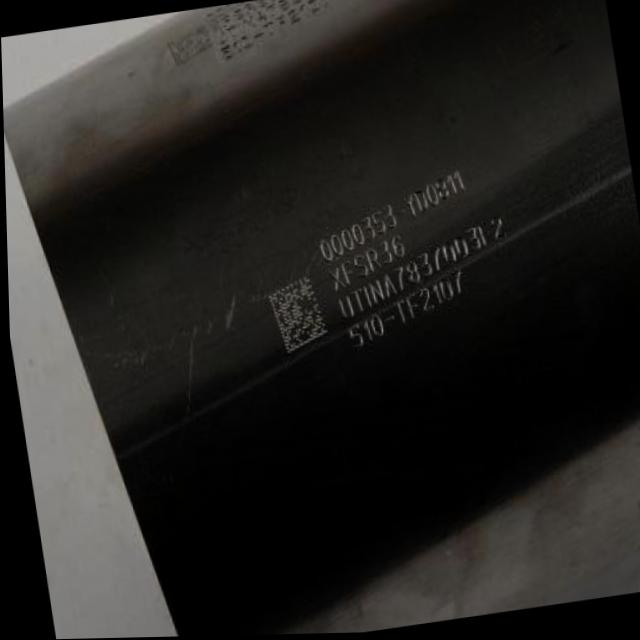ocr: (300, 160, 527, 378)
